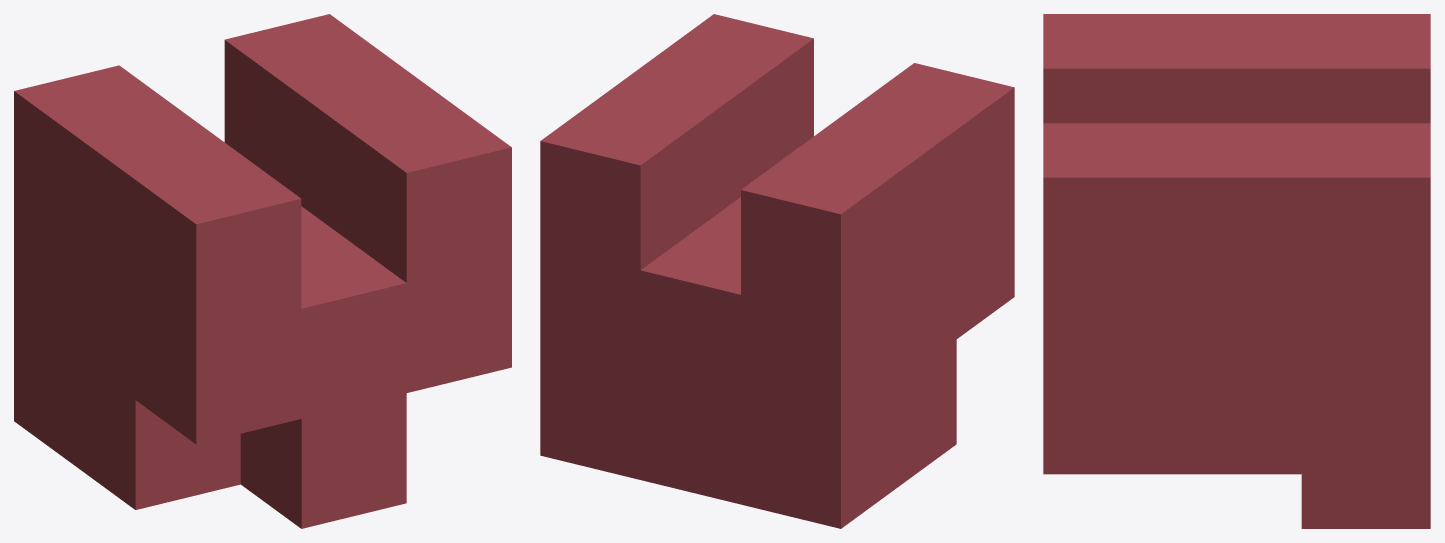
Rendered from B team.glb.
3 renders of one model, left to right at view 1: azimuth 30°, elevation 25°; view 2: azimuth 150°, elevation 25°; view 3: azimuth 270°, elevation 25°, orthographic. The views are drawn at different scales.
Parts seen in each view (by area): view 1: Mesh_Mesh_head_geo.001_lambert2SG.001; view 2: Mesh_Mesh_head_geo.001_lambert2SG.001; view 3: Mesh_Mesh_head_geo.001_lambert2SG.001.
Boxes of the visible parts, x1,y1,x2,y2 form: Mesh_Mesh_head_geo.001_lambert2SG.001: [14, 14, 511, 528]; Mesh_Mesh_head_geo.001_lambert2SG.001: [540, 14, 1014, 528]; Mesh_Mesh_head_geo.001_lambert2SG.001: [1043, 14, 1430, 528].
Size of the model in its own units: 0.06 by 0.06 by 0.06.
